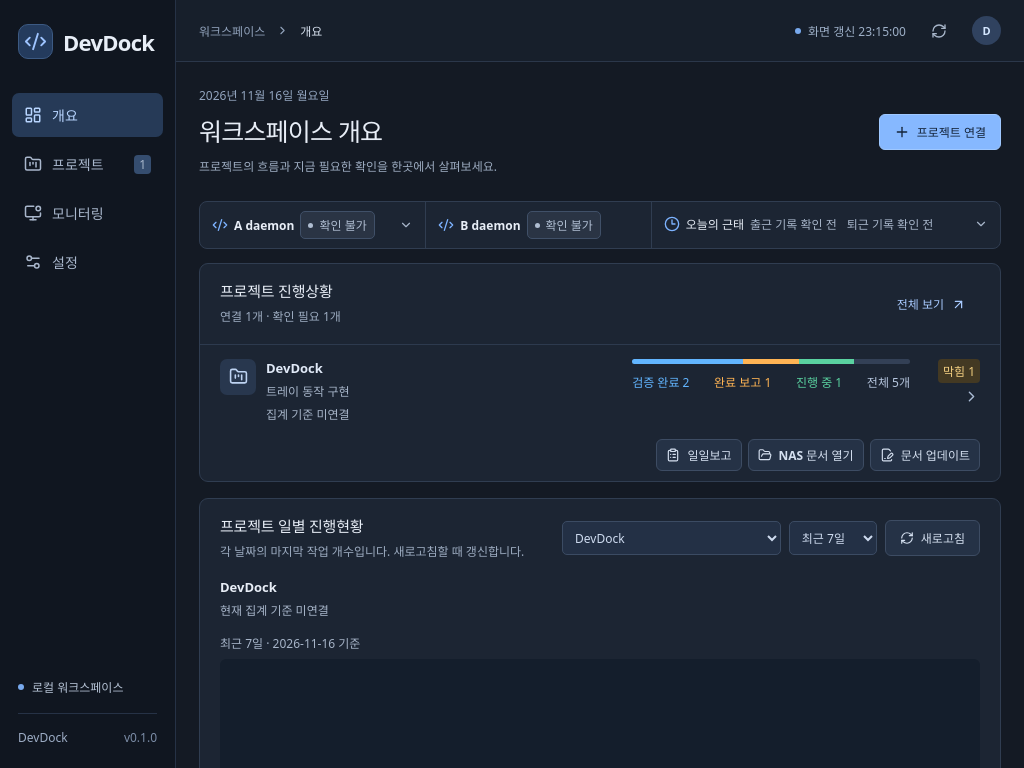
it: DevDock dashboard › removes a monitor without removing its project
Expected: the text "트레이 동작 구현" is shown, [266,383,350,400]
Click the button "모니터링".
click(88, 213)  # box [12,191,163,235]
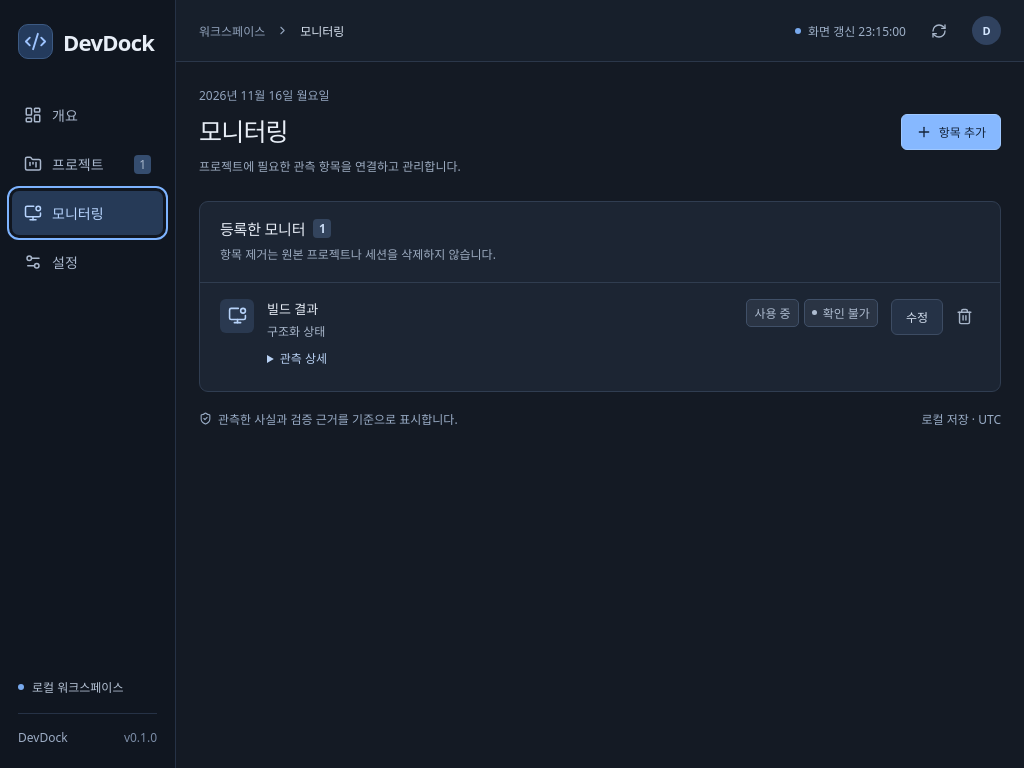
Now the text "빌드 결과" is shown, box [267,300,318,318]
Click the button named "빌드 결과 제거".
click(964, 317)  # box [948,301,980,333]
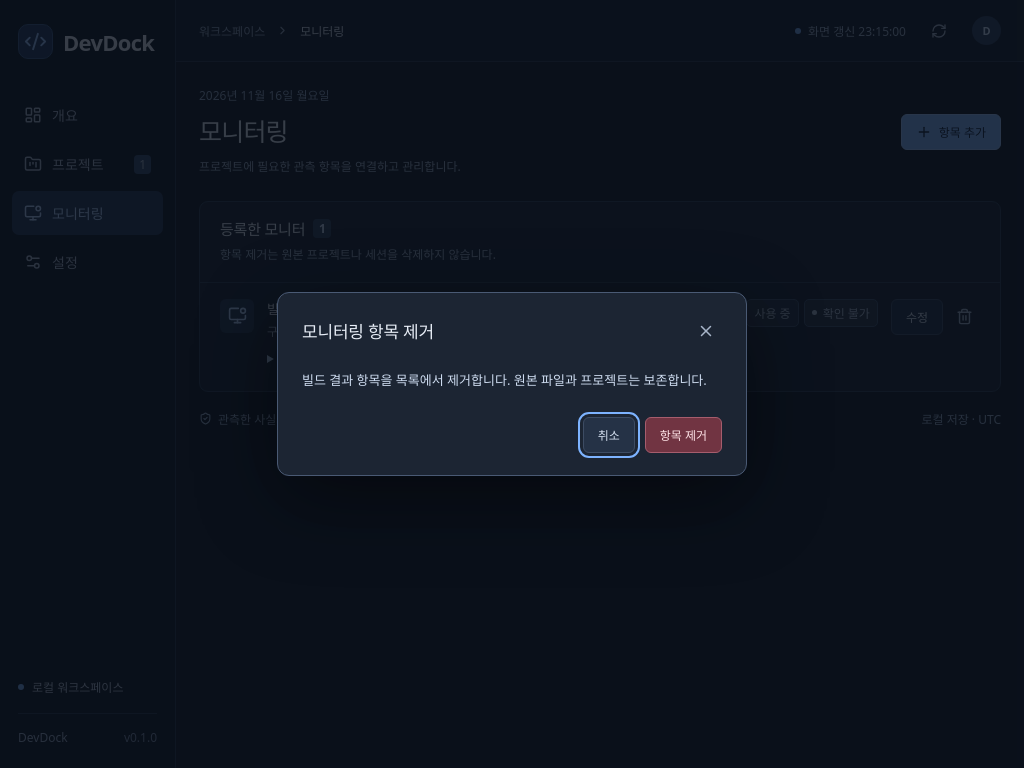
Click the button "항목 제거".
click(683, 435)  # box [645,417,722,453]
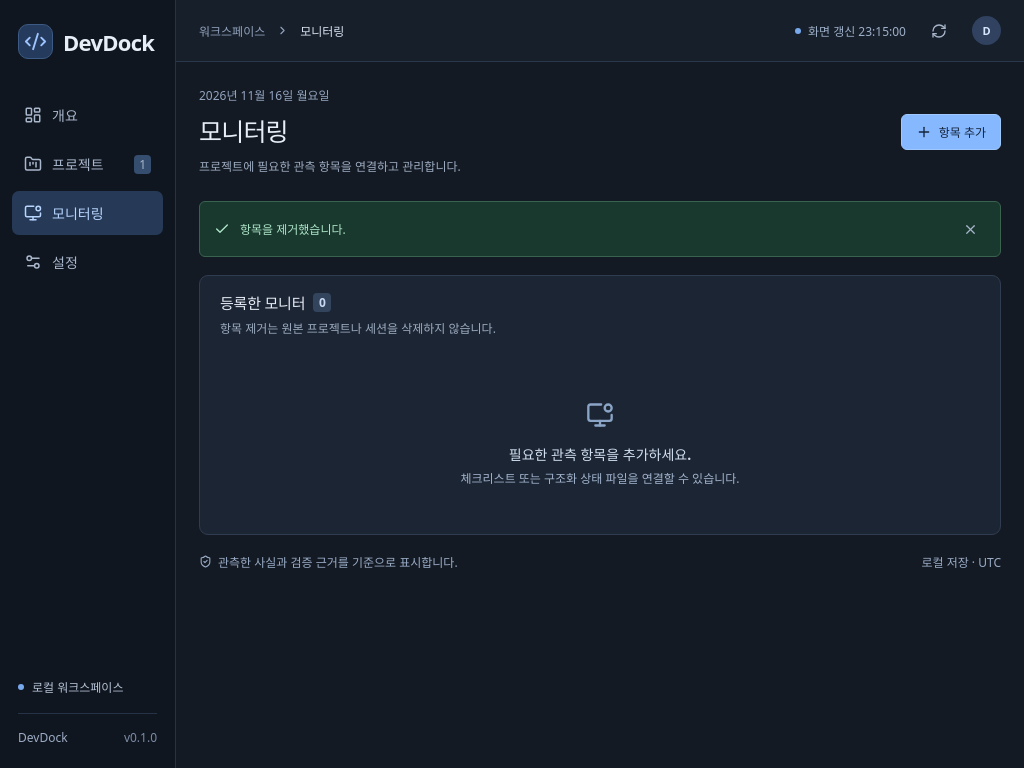
Now the text "빌드 결과" is gone
